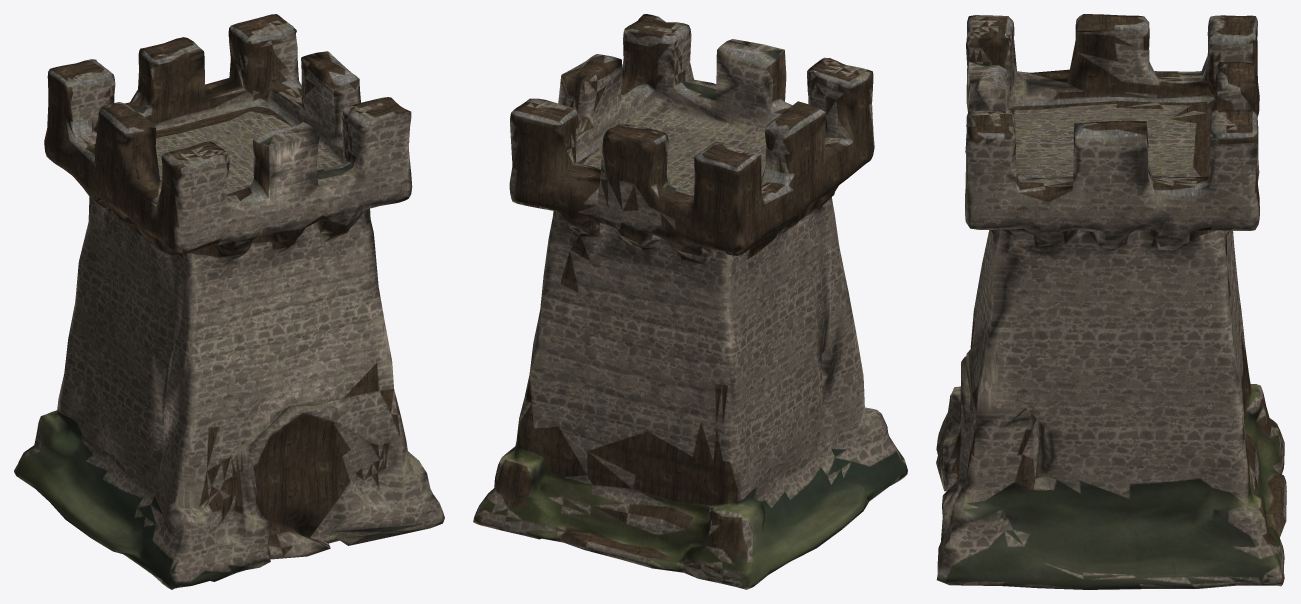
Rendered from tower_square.glb.
3 renders of one model, left to right at view 1: azimuth 30°, elevation 25°; view 2: azimuth 150°, elevation 25°; view 3: azimuth 270°, elevation 25°, orthographic. The views are drawn at different scales.
Visible parts, largest first — view 1: tower_square; view 2: tower_square; view 3: tower_square.
Part boxes in pixels (<box>): tower_square: <box>14,14,444,589</box>; tower_square: <box>473,14,907,589</box>; tower_square: <box>936,14,1286,589</box>.
Bounding box in the file's own units: 8.92 × 12 × 8.64.
Materials: 1 (1 with a texture image).
